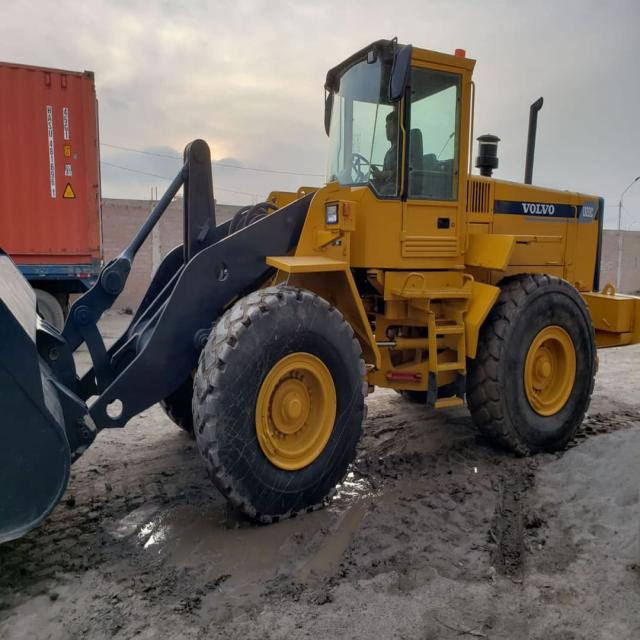buldozerpayloadergrader: (0, 36, 608, 520)
